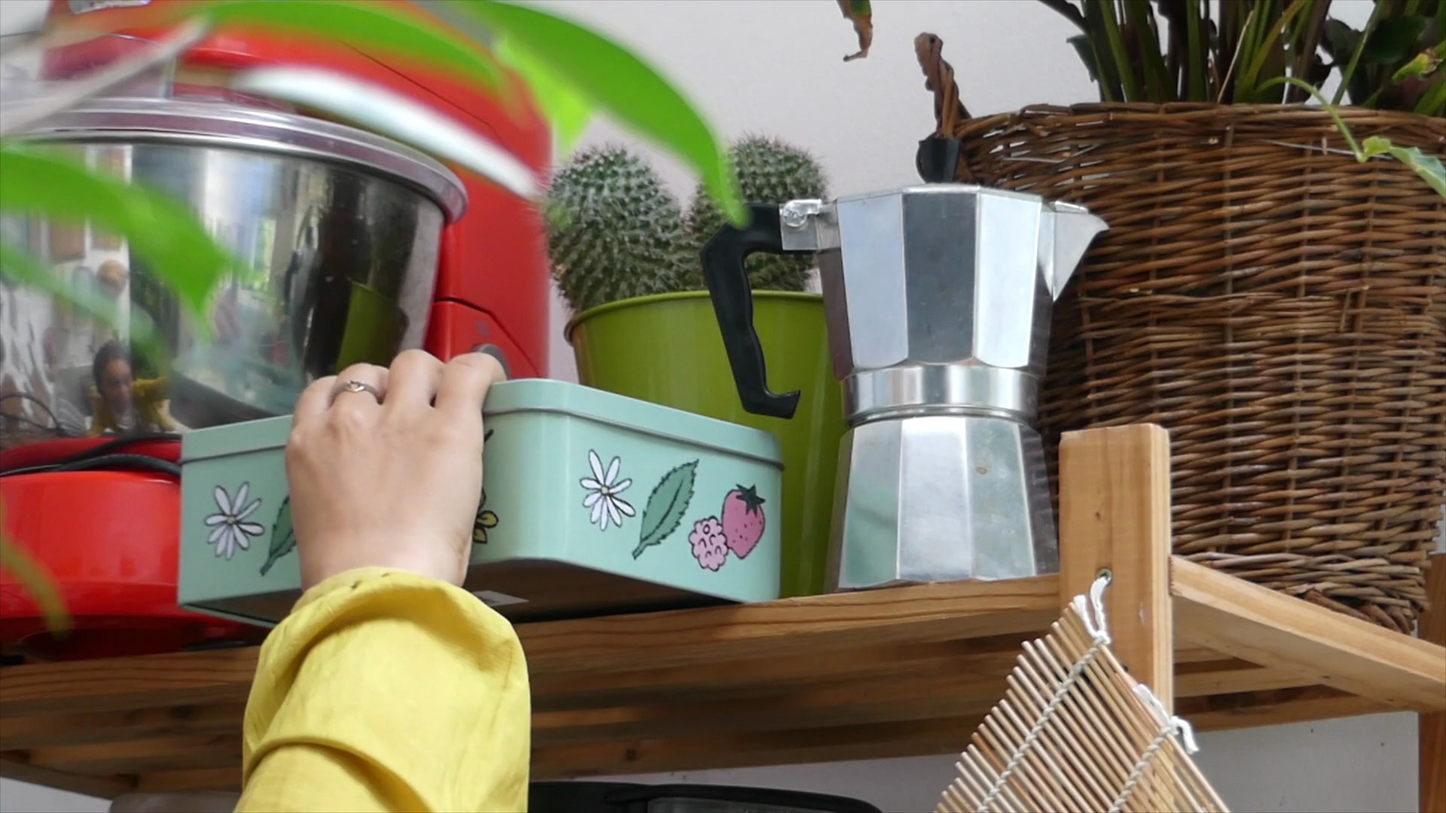dallah: (125, 195, 838, 813)
dates_box: (652, 159, 1318, 614), (741, 185, 1061, 402), (711, 185, 983, 414)
electronics: (434, 144, 1121, 813), (900, 0, 1446, 735), (426, 110, 932, 813), (0, 110, 460, 813), (525, 84, 932, 696), (1, 127, 315, 813), (812, 394, 1191, 813), (0, 400, 277, 813)
perfume_bottle: (0, 0, 643, 500), (714, 182, 852, 427)
watch: (113, 90, 716, 789), (0, 95, 584, 812), (843, 0, 1351, 595), (953, 291, 1445, 813), (748, 0, 1239, 430), (883, 585, 1275, 813), (910, 595, 1195, 813), (932, 642, 1277, 813), (890, 750, 1056, 813)
